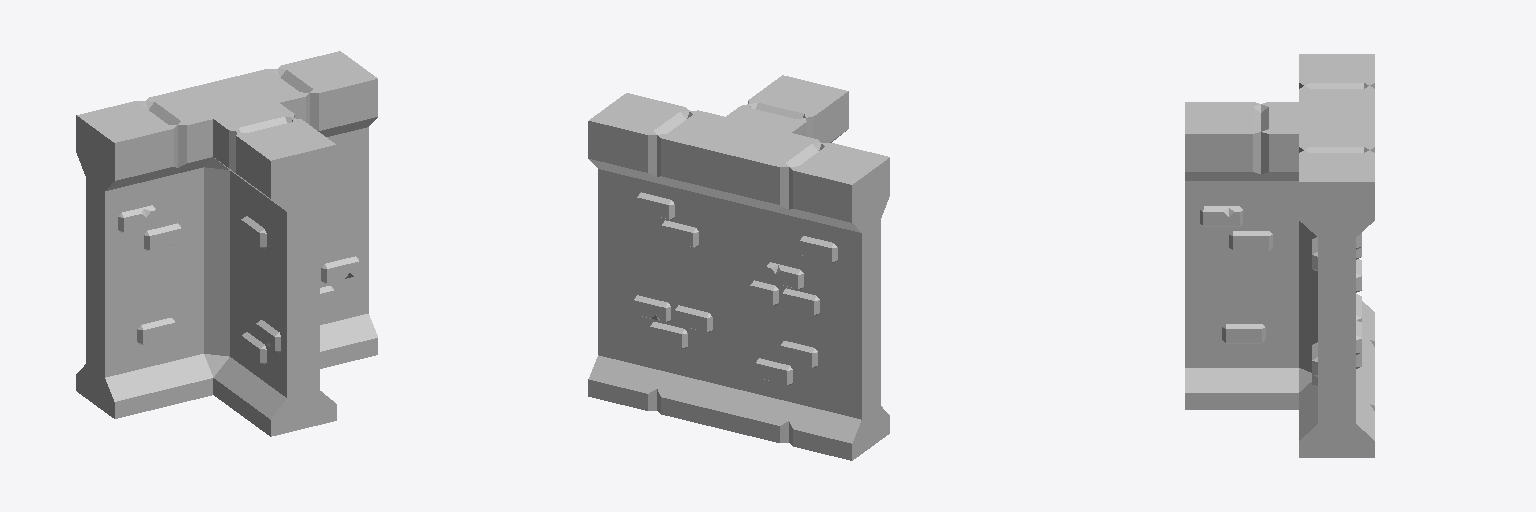
File: wall_Tsplit.obj
3 renders of one model, left to right at view 1: azimuth 30°, elevation 25°; view 2: azimuth 150°, elevation 25°; view 3: azimuth 270°, elevation 25°, orthographic.
Visible parts, largest first — view 1: wall_Tsplit; view 2: wall_Tsplit; view 3: wall_Tsplit.
Part boxes in pixels (x1,y1,x2,y2): wall_Tsplit: (76,51,377,436); wall_Tsplit: (588,75,889,460); wall_Tsplit: (1185,54,1374,457).
Size of the model in its own units: 4 by 4 by 2.5.